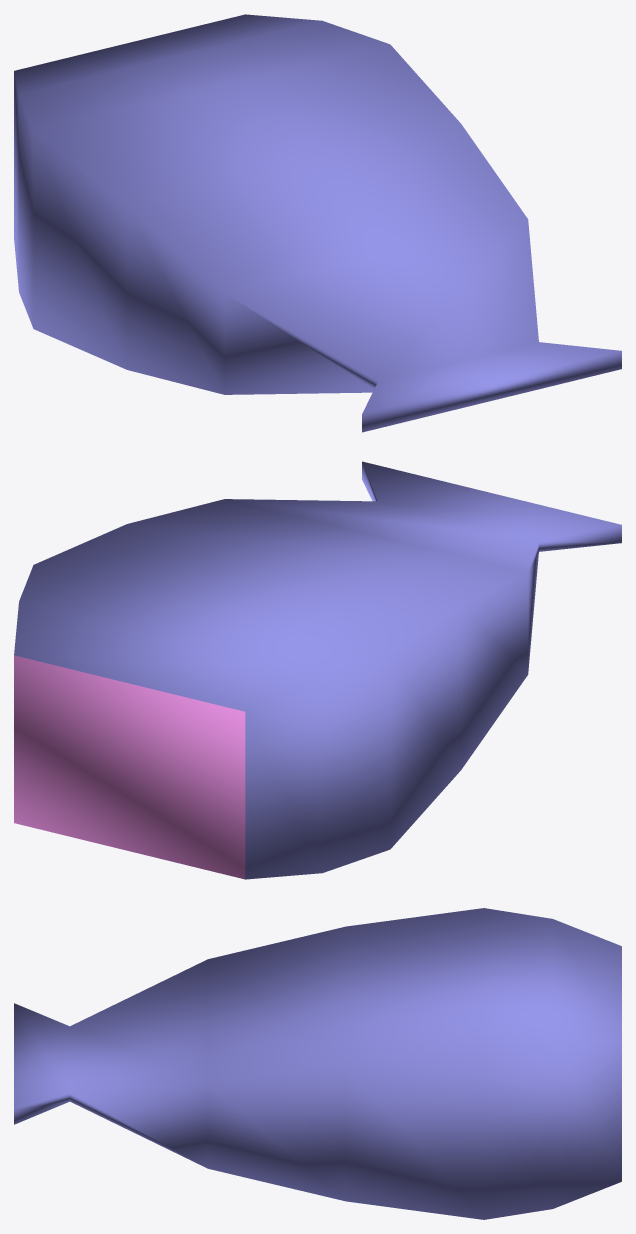
The model's file is FishRaw.glb.
3 views of the same model, one above another, from view 1: azimuth 30°, elevation 25°; view 2: azimuth 150°, elevation 25°; view 3: azimuth 270°, elevation 25° (orthographic). The views are drawn at different scales.
Visible parts, largest first — view 1: Cube.113; view 2: Cube.113; view 3: Cube.113.
Boxes of the visible parts, x1=… form: Cube.113: x1=14, y1=14, x2=621, y2=432; Cube.113: x1=14, y1=461, x2=621, y2=879; Cube.113: x1=14, y1=908, x2=621, y2=1219.
Size of the model in its own units: 0.441 by 0.2333 by 0.7754.
